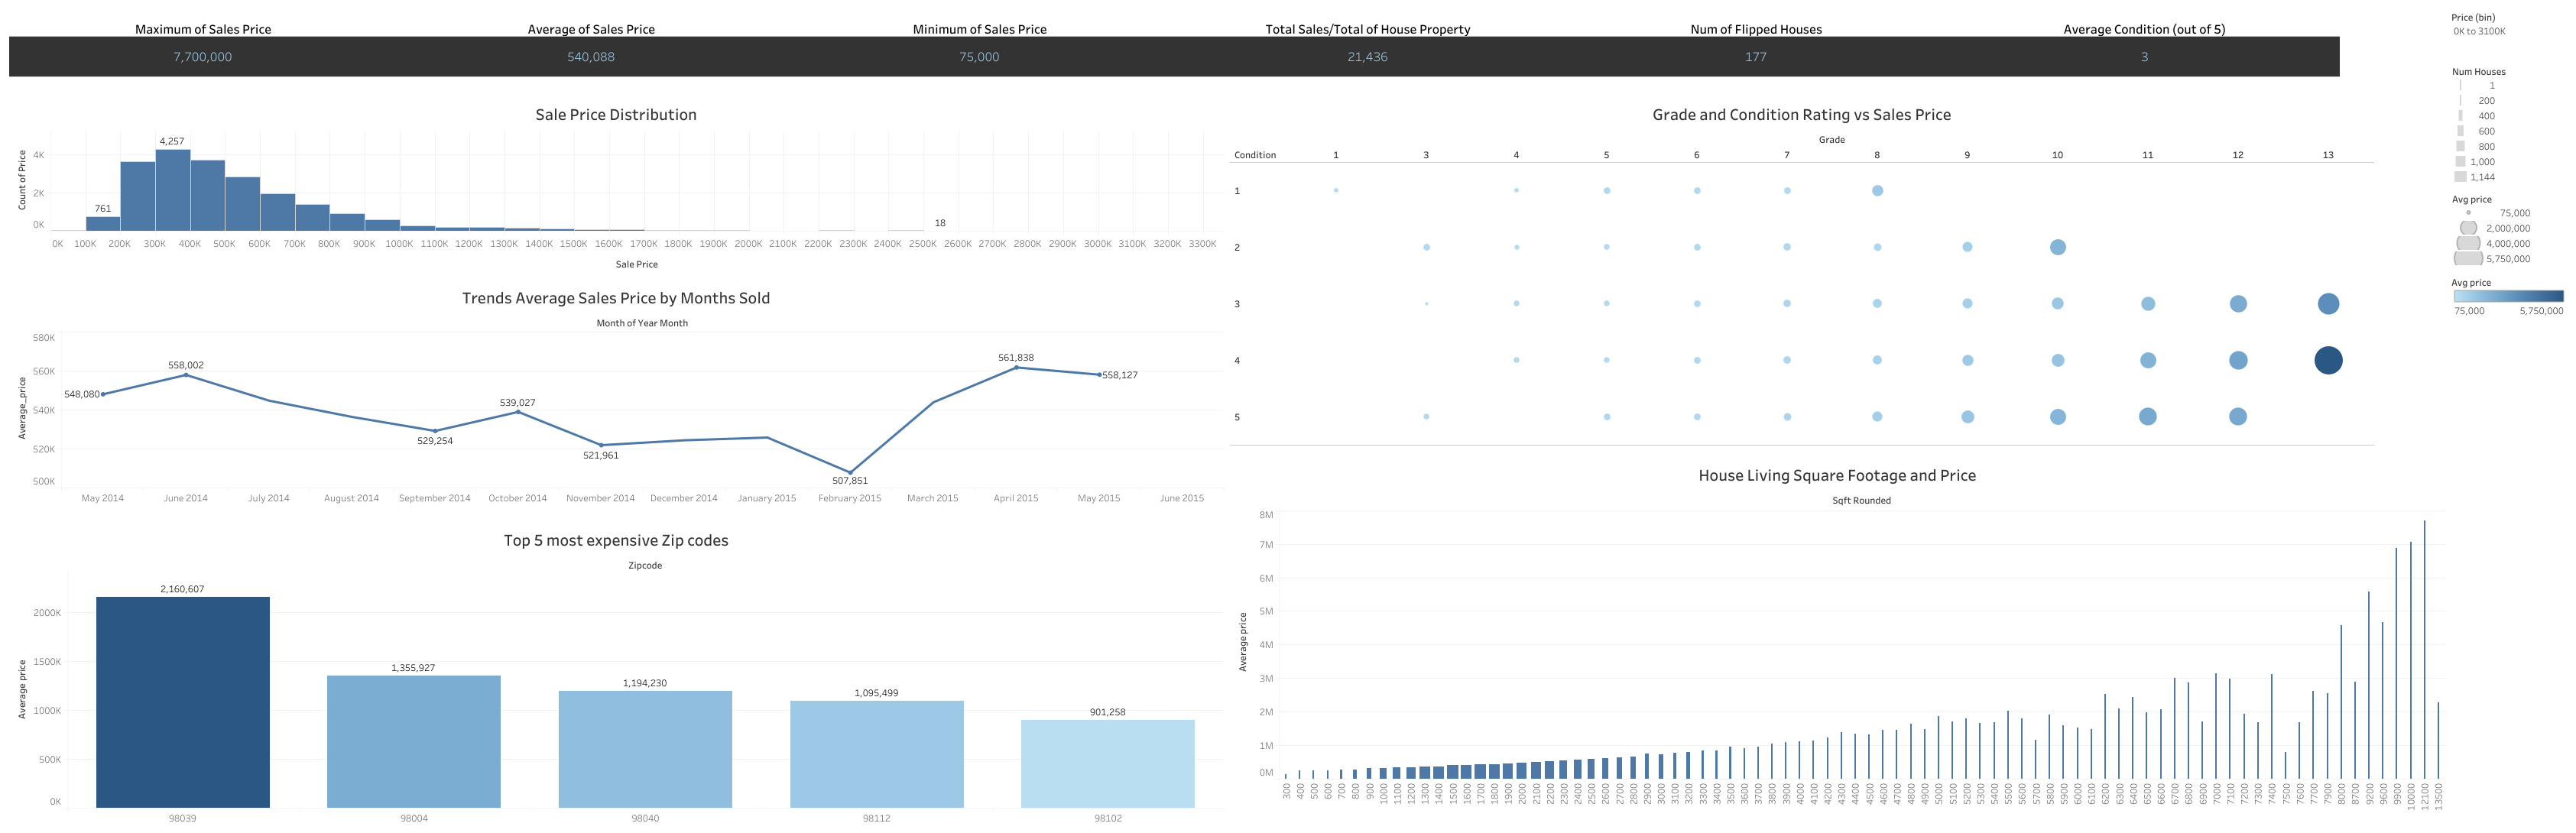

The dashboard page shown, as its layout file describes it:
{"tool":"tableau","page":{"name":"Dashboard 1","canvas":[1000,1000],"units":"permille","ordinal":0},"visuals":[{"type":"worksheet","title":"Sheet 1","mark":"Automatic","box":[2.5,6.6,944.8,107.6]},{"type":"filter","title":"Sheet 2","param":"[federated.0cxff001vp9ccg1dl8k3y12wkkbh].[none:Price (bin):qk]","box":[947.3,6.6,50.2,56.7]},{"type":"legend","title":"Sheet 5","param":"[federated.01qzycj0978mir1aw3iij1x0svzr].[sum:num_houses:qk]","box":[947.3,63.3,50.2,136.5]},{"type":"worksheet","title":"Sheet 2","mark":"Automatic","rows":["price"],"cols":["Price (bin)"],"box":[2.5,114.2,472.4,219.8]},{"type":"worksheet","title":"Sheet 6","mark":"Circle","rows":["condition"],"cols":["grade"],"box":[474.9,114.2,472.4,433.5]},{"type":"legend","title":"Sheet 6","param":"[federated.1m9fk0e0p0sfvs18iixuq0fvvz3k].[sum:Avg_price:qk]","box":[947.3,199.8,50.2,87.2]},{"type":"legend","title":"Sheet 6","param":"[federated.1m9fk0e0p0sfvs18iixuq0fvvz3k].[sum:Avg_price:qk]","box":[947.3,287,50.2,53.5]},{"type":"worksheet","title":"Sheet 4","mark":"Automatic","rows":["Average_price"],"cols":["year_month"],"box":[2.5,334,472.4,291]},{"type":"worksheet","title":"Sheet 5","mark":"Automatic","rows":["Average_price"],"cols":["sqft_rounded"],"box":[474.9,547.7,472.4,445.7]},{"type":"worksheet","title":"Sheet 3","mark":"Automatic","rows":["Average_price"],"cols":["zipcode"],"box":[2.5,625,472.4,368.4]}]}

Visuals, with their boxes on the dashboard's canvas, which has no fixed pixel size, in thousandths of its width and height (x1, y1, x2, y2). These are canvas units, not pixel positions in the 2576x833 screenshot, which may show the page scaled, cropped or inside an application window:
"Sheet 1" worksheet: bbox=(2, 7, 947, 114)
"Sheet 2" filter: bbox=(947, 7, 998, 63)
"Sheet 5" legend: bbox=(947, 63, 998, 200)
"Sheet 2" worksheet: bbox=(2, 114, 475, 334)
"Sheet 6" worksheet (Circle marks): bbox=(475, 114, 947, 548)
"Sheet 6" legend: bbox=(947, 200, 998, 287)
"Sheet 6" legend: bbox=(947, 287, 998, 340)
"Sheet 4" worksheet: bbox=(2, 334, 475, 625)
"Sheet 5" worksheet: bbox=(475, 548, 947, 993)
"Sheet 3" worksheet: bbox=(2, 625, 475, 993)
